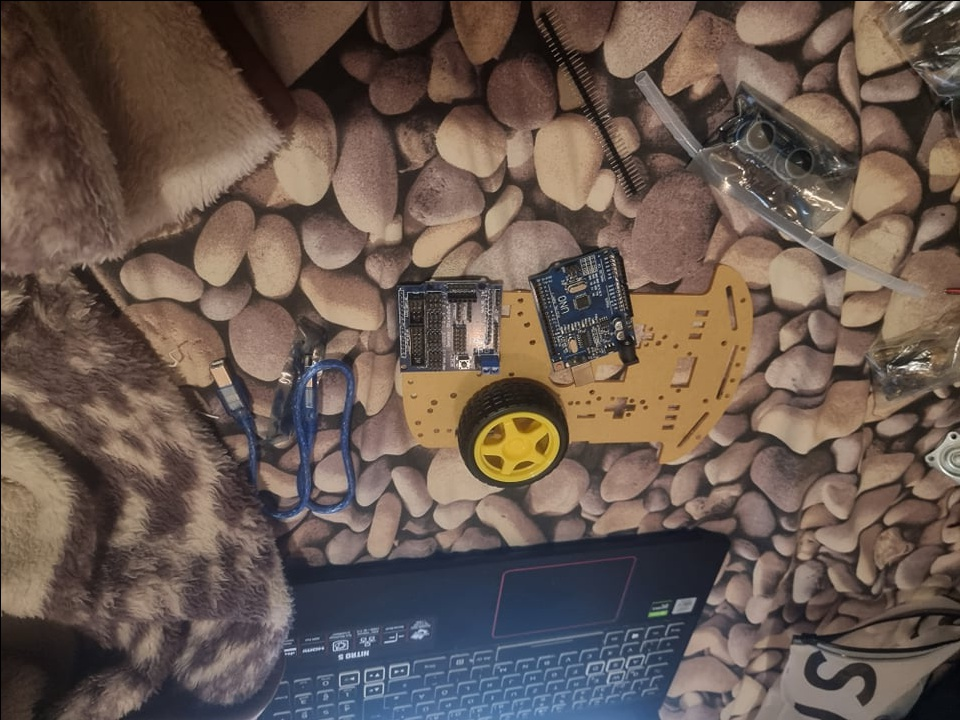5V EXPANSION: (527, 245, 641, 366), (396, 277, 501, 377)
SENSOR: (737, 111, 815, 184)
